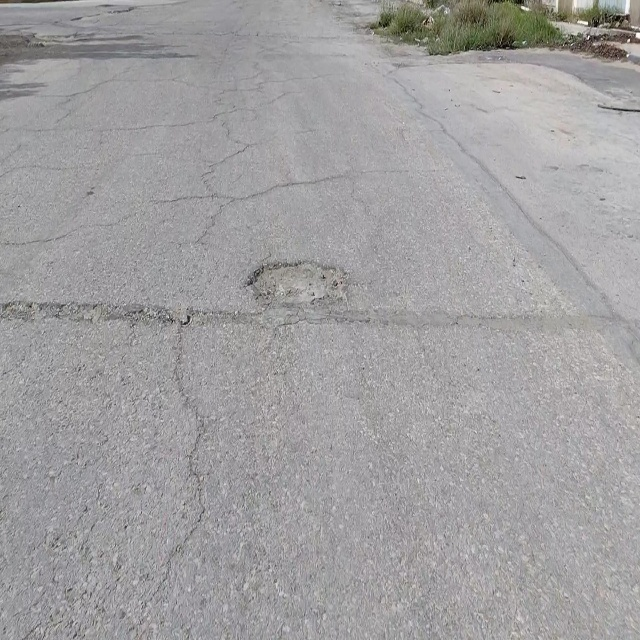pothole: (244, 255, 349, 309)
